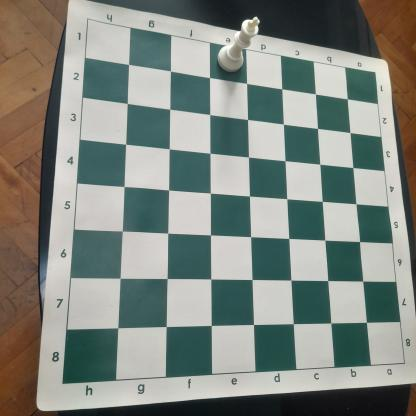white-king: (216, 16, 260, 74)
